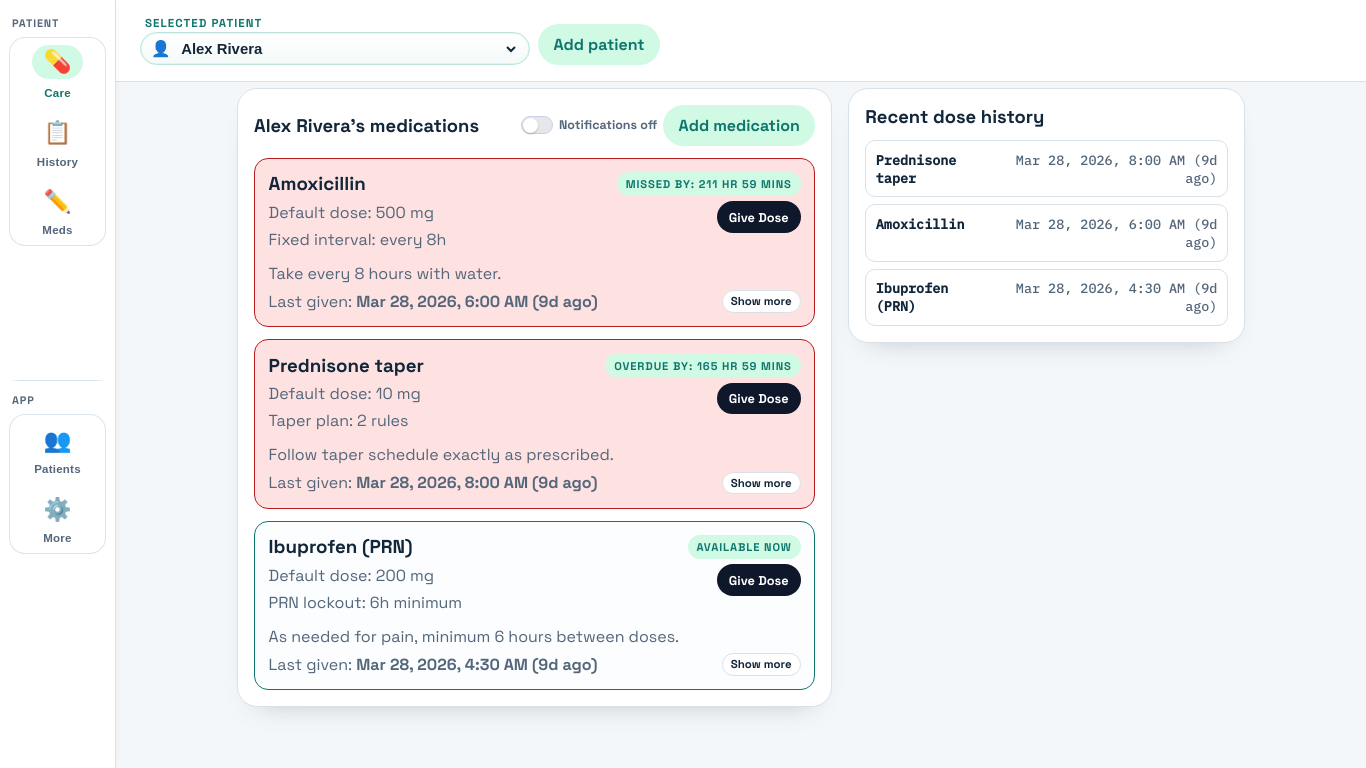
Test: App persistence flow › shows validation error when correction timestamp is missing
Expected: the heading "Alex Rivera's medications" is shown, [254, 114, 479, 137]
Click the button with test id "toggle-med-details-med-interval-1": (761, 301) [722, 290, 801, 312]
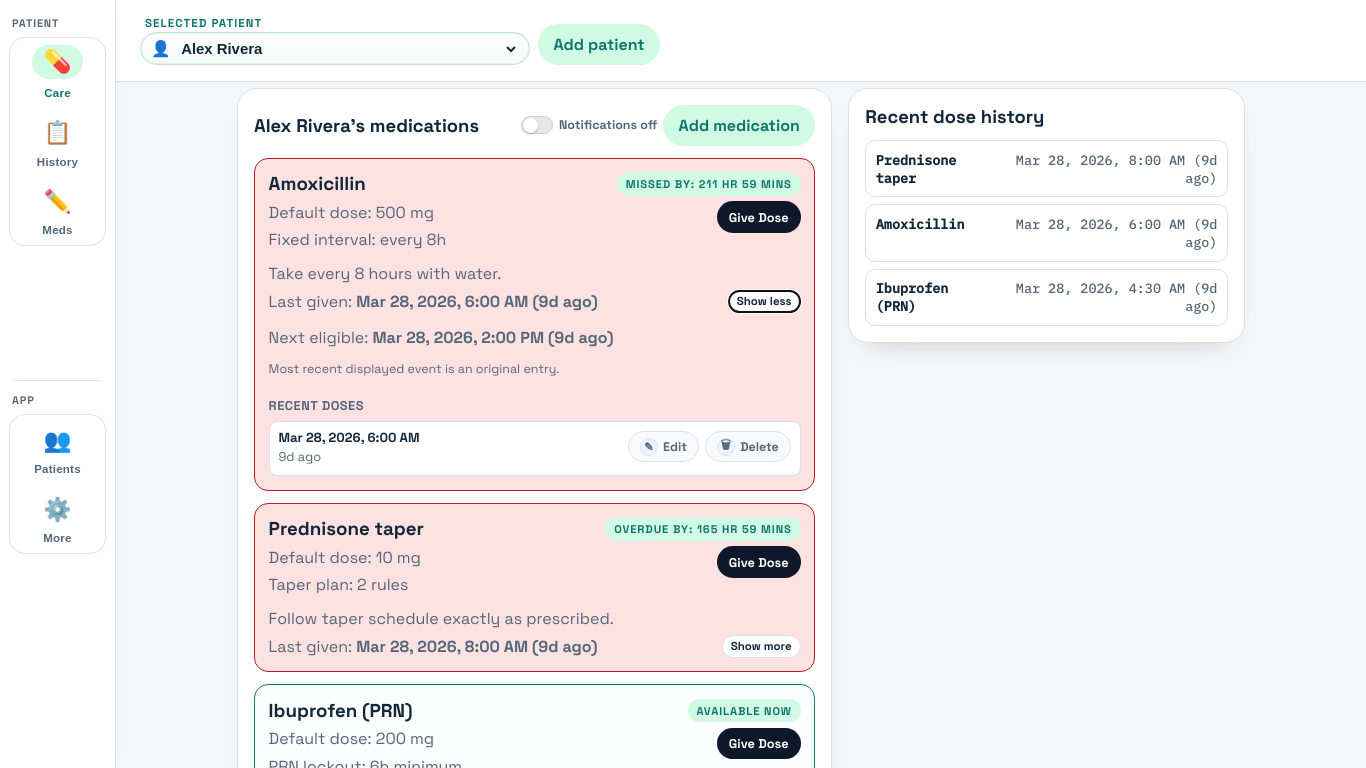
Click the button with test id "correct-dose-dose-seed-1": (663, 447) [628, 432, 699, 462]
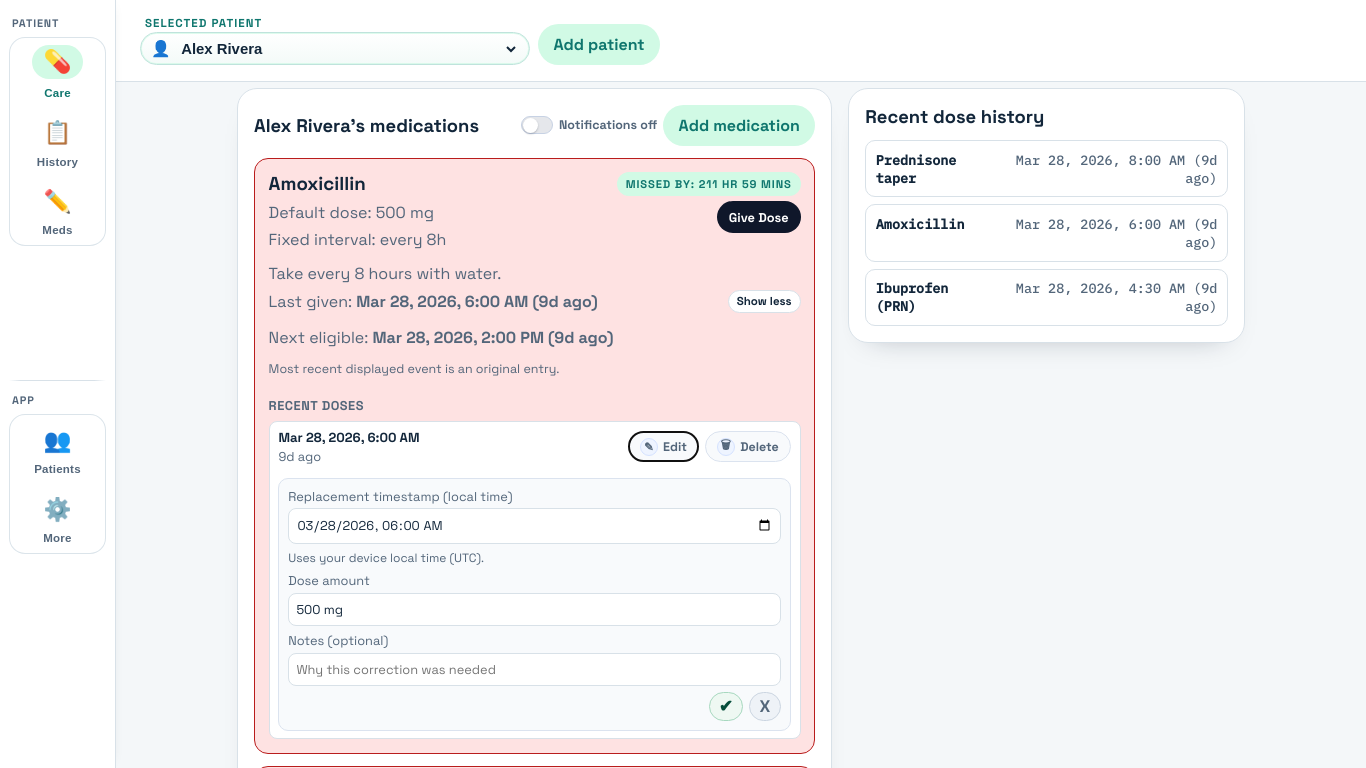
Clear the field labelled "Replacement timestamp (local time)": (535, 526) [288, 508, 781, 544]
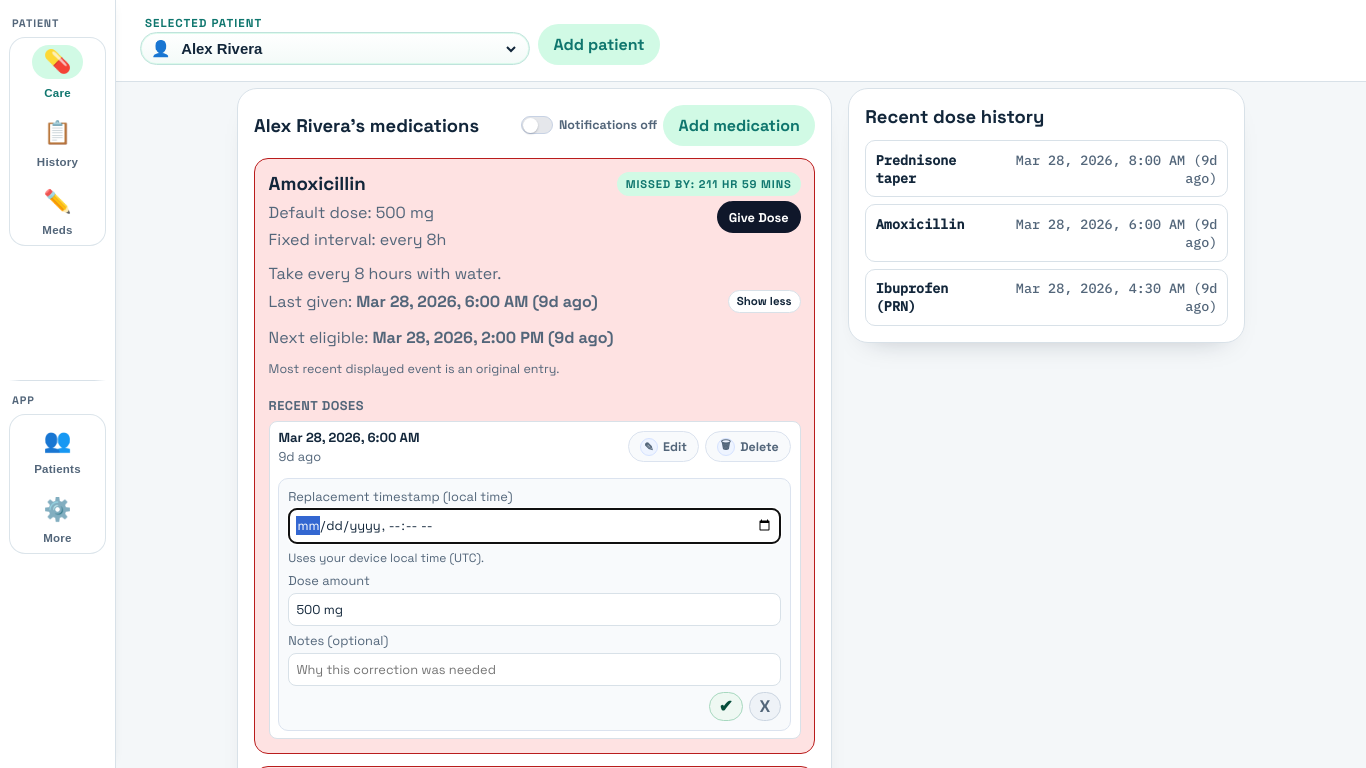
Click the button named "Save correction": (726, 707) [709, 692, 743, 721]
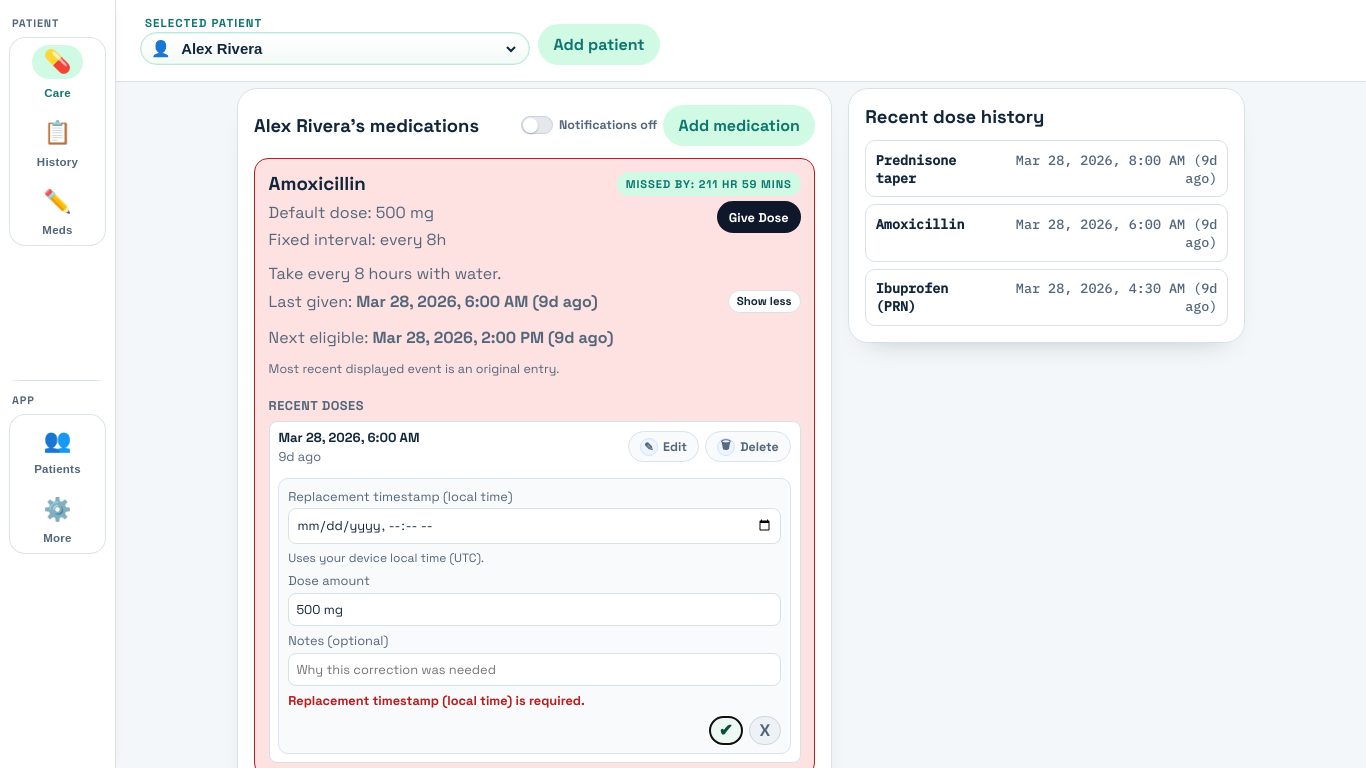
Expected: the text "Replacement timestamp (local time) is required." is shown, [288, 692, 585, 709]
